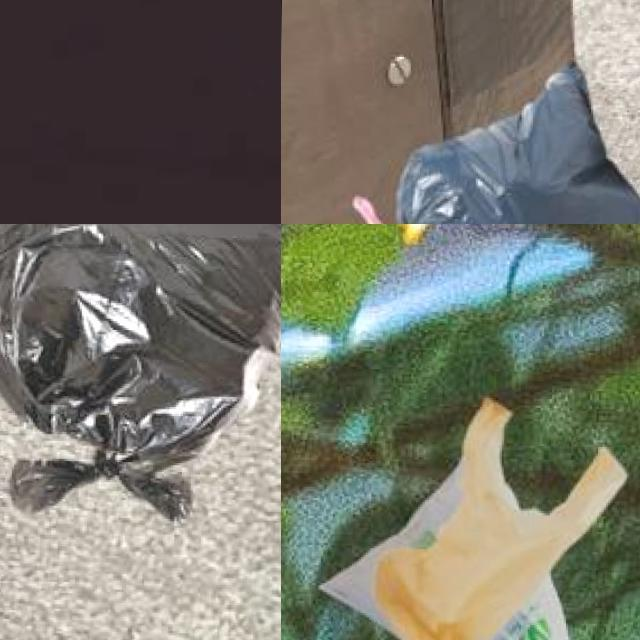waste: (0, 224, 281, 466), (387, 402, 623, 640), (340, 454, 574, 640), (396, 62, 640, 224)
